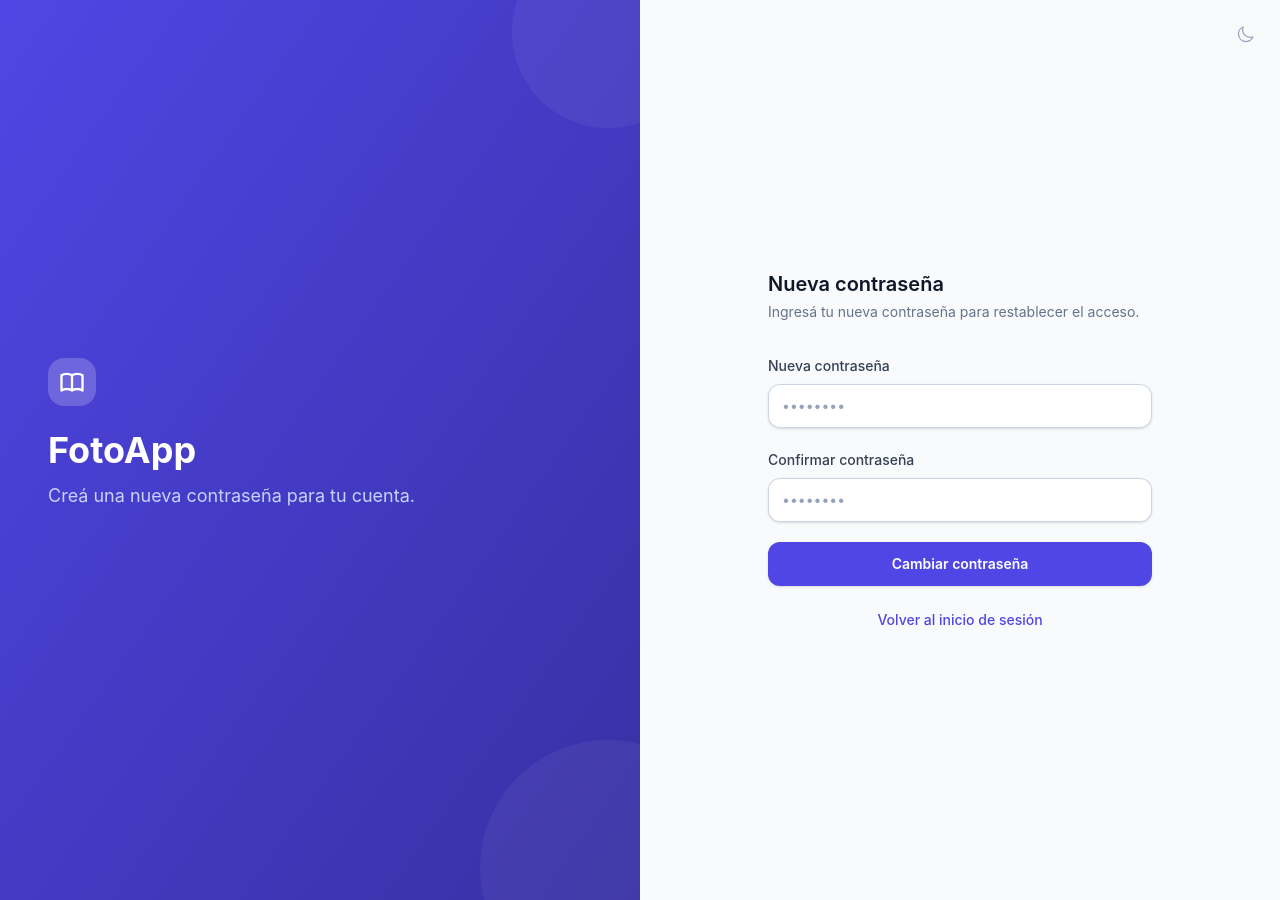
Test: ResetPassword page › shows validation error when passwords do not match
In the password field labelled "Nueva contraseña": (960,406) [768,384,1152,428], type "Password123!"
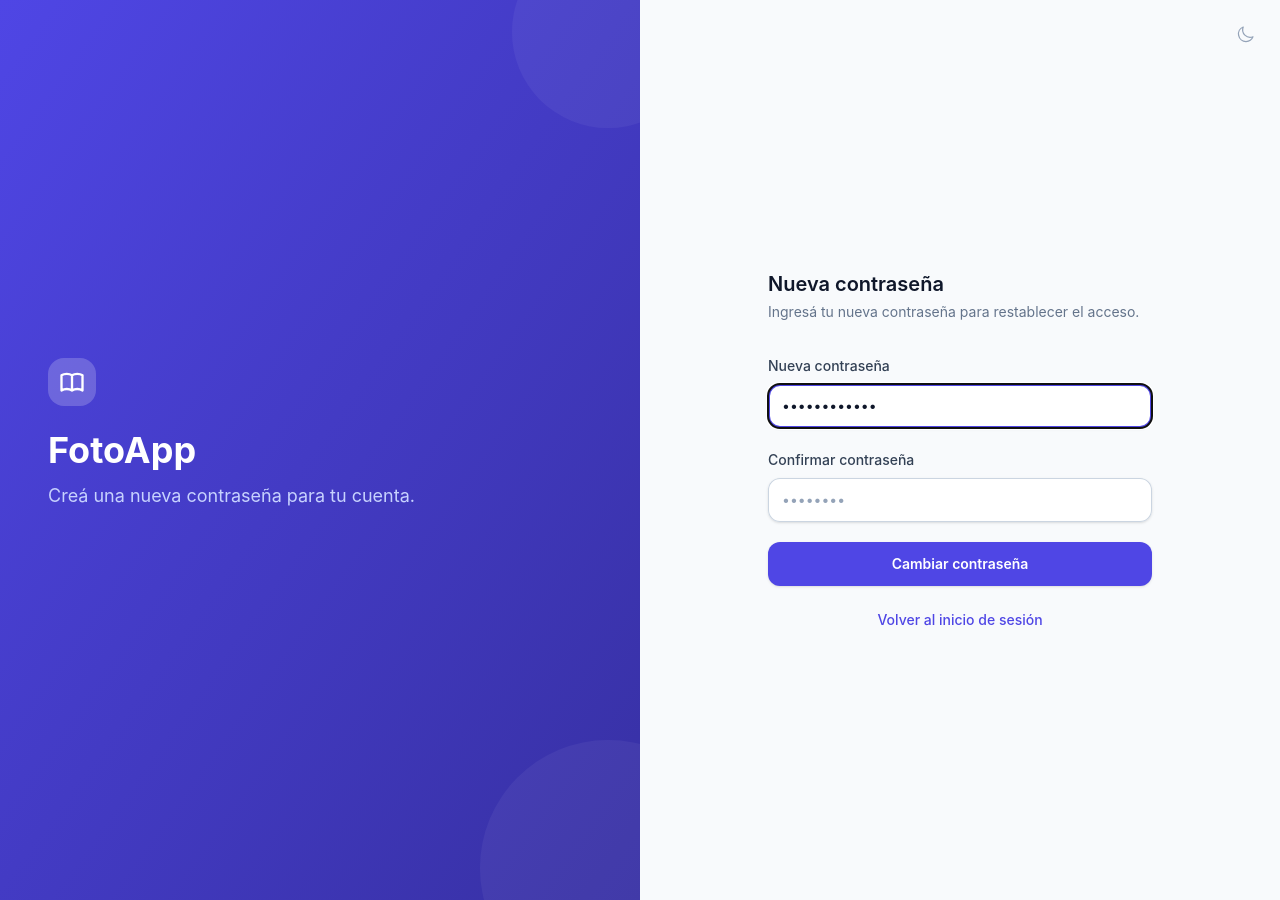
In the password field labelled "Confirmar contraseña": (960,500) [768,478,1152,522], type "DifferentPass456!"
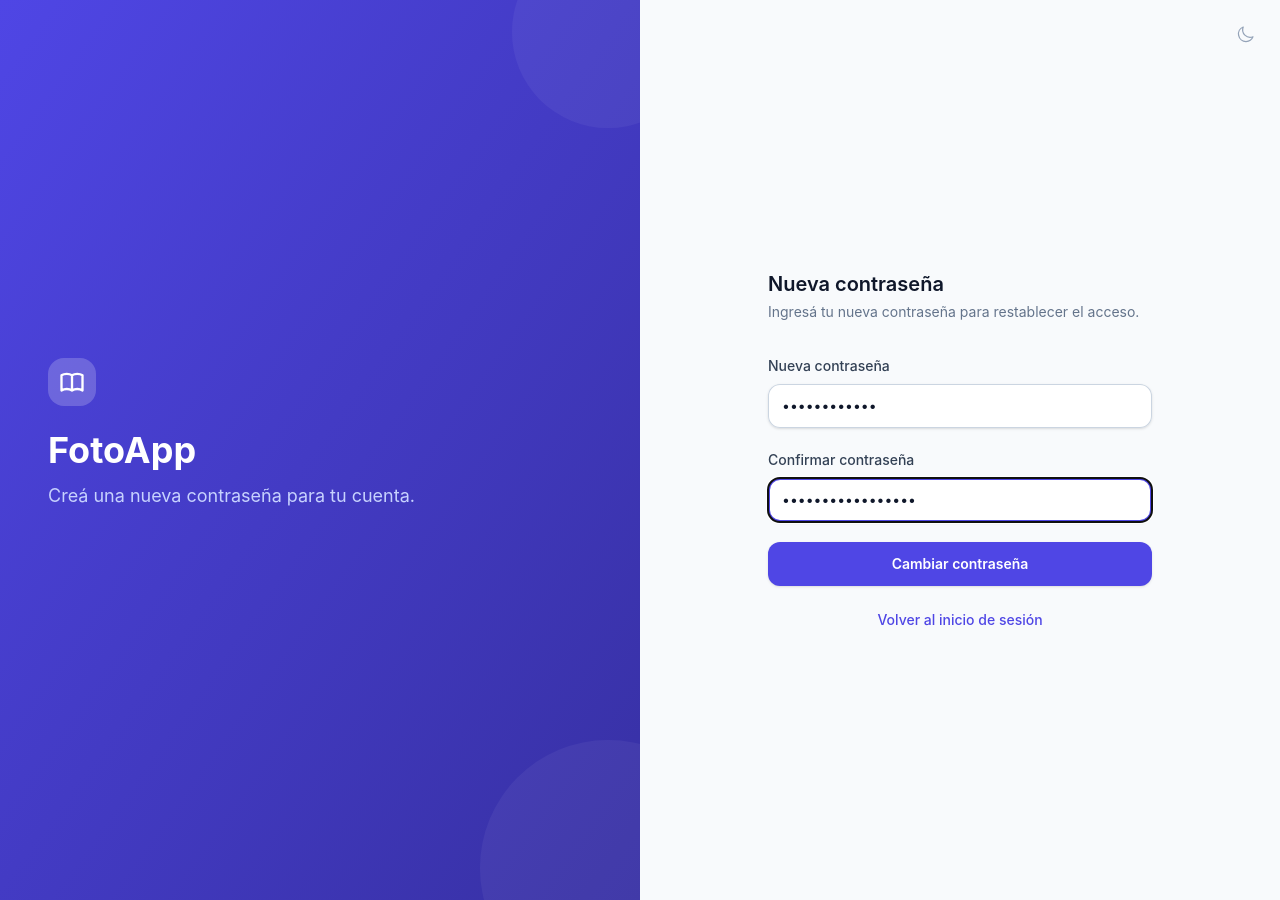
Click the button "Cambiar contraseña": (960,564) [768,542,1152,586]
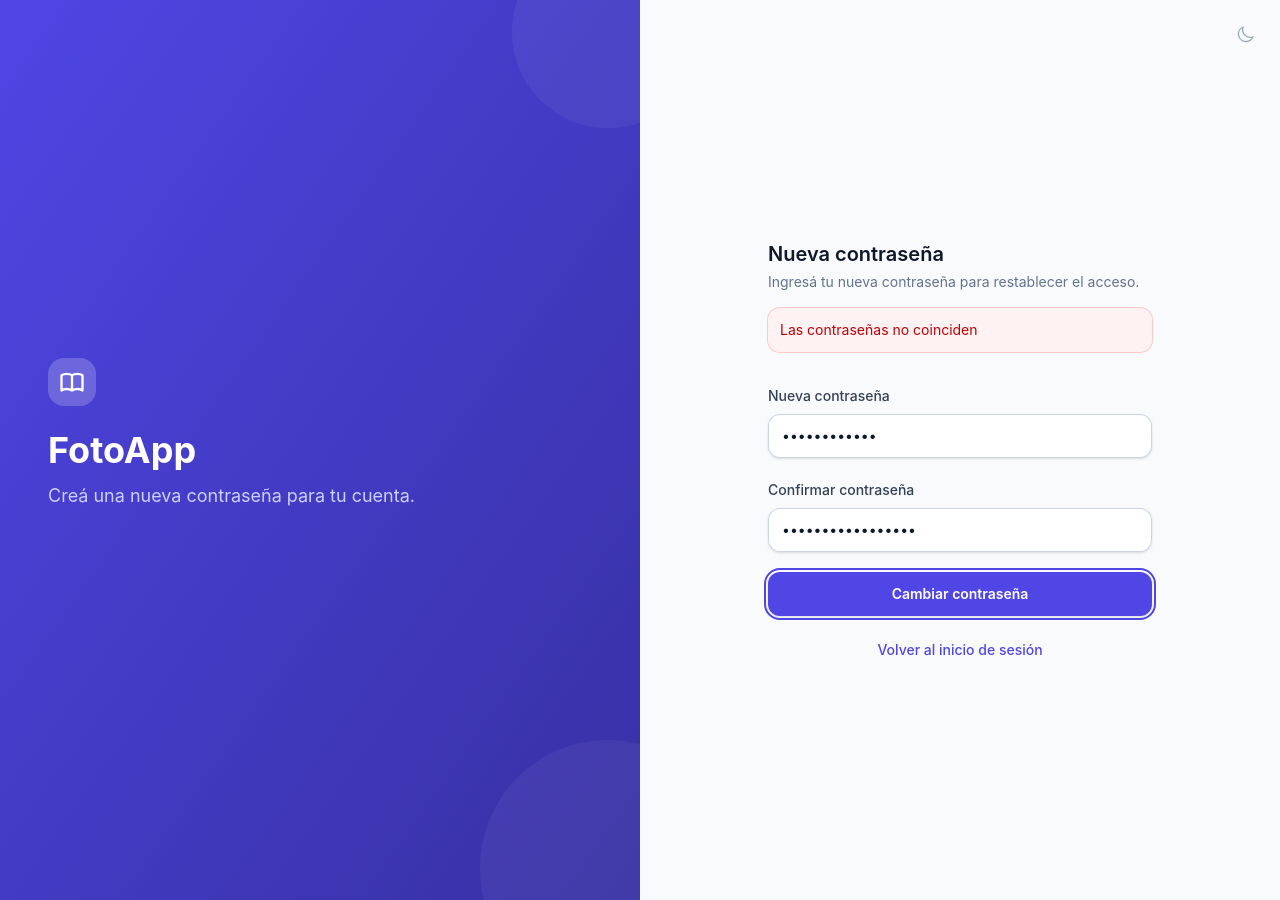
Check: the text "Las contraseñas no coinciden" is shown, box [768,308,1152,352]
